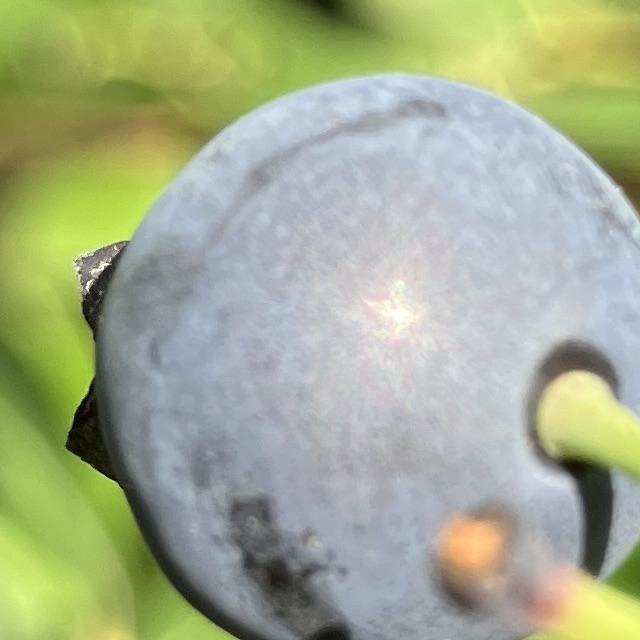Blueberries: (62, 65, 640, 640)
